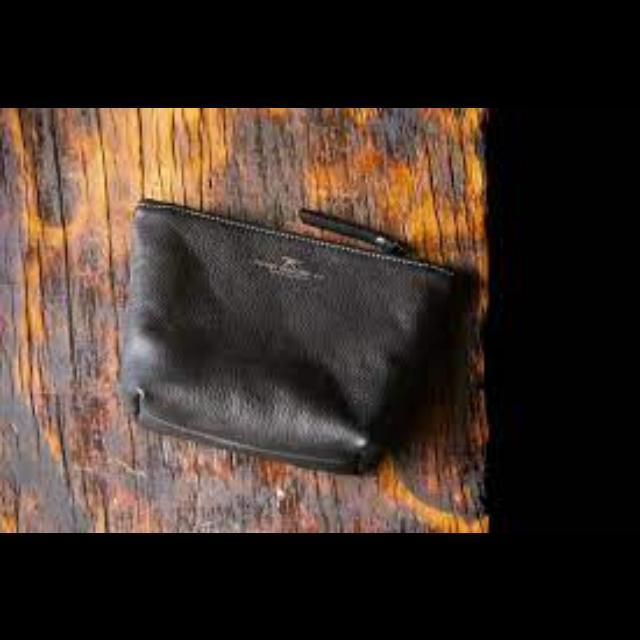wallet: (127, 230, 430, 470)
